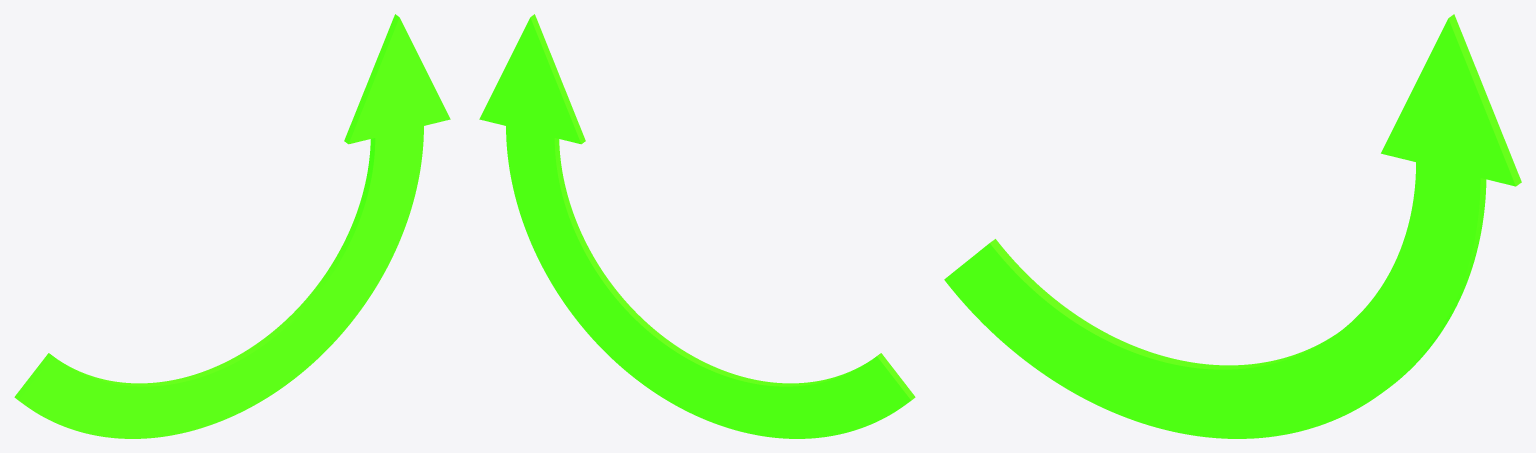
The model's file is arrow_scaled.dae.
The picture shows the model from 3 angles, left to right: view 1: azimuth 30°, elevation 25°; view 2: azimuth 150°, elevation 25°; view 3: azimuth 330°, elevation 25°; orthographic projection. The views are drawn at different scales.
Parts seen in each view (by area): view 1: Arrow; view 2: Arrow; view 3: Arrow.
Part boxes in pixels (x1=…): Arrow: x1=14, y1=14, x2=450, y2=438; Arrow: x1=479, y1=14, x2=915, y2=438; Arrow: x1=944, y1=14, x2=1521, y2=438.
Bounding box in the file's own units: 1.75 × 1.41 × 0.0314.
